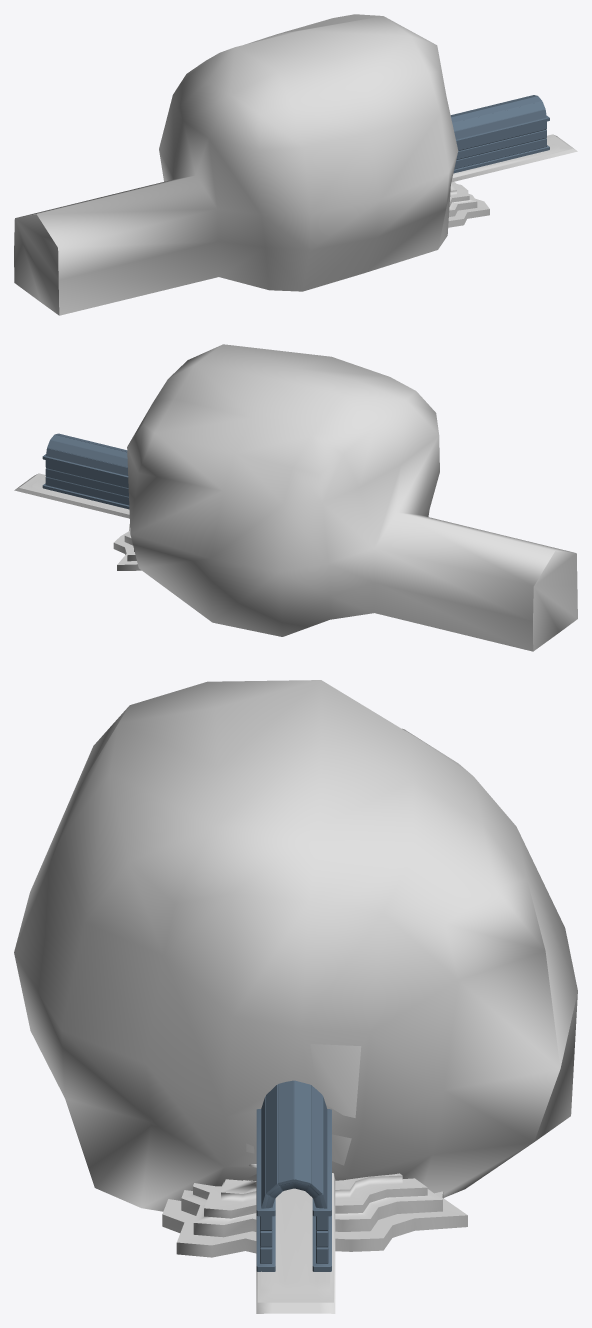
File: CK AKKA.fbx
3 views of the same model, one above another, from view 1: azimuth 30°, elevation 25°; view 2: azimuth 150°, elevation 25°; view 3: azimuth 270°, elevation 25° (orthographic). The views are drawn at different scales.
Parts seen in each view (by area): view 1: Cube.007, Pintu.001, Cylinder.001; view 2: Cube.007, Pintu.001, Cylinder.001; view 3: Cube.007, Cylinder.001, Pintu.001.
Boxes of the visible parts, x1,y1,x2,y2 form: Cube.007: (14, 14, 458, 315); Pintu.001: (450, 95, 549, 173); Cylinder.001: (448, 134, 577, 227); Cube.007: (127, 344, 577, 651); Pintu.001: (42, 433, 129, 509); Cylinder.001: (14, 473, 141, 570); Cube.007: (14, 680, 577, 1211); Cylinder.001: (162, 1164, 467, 1313); Pintu.001: (256, 1080, 331, 1271).
Bounding box in the file's own units: 12950 × 4566 × 6194.
